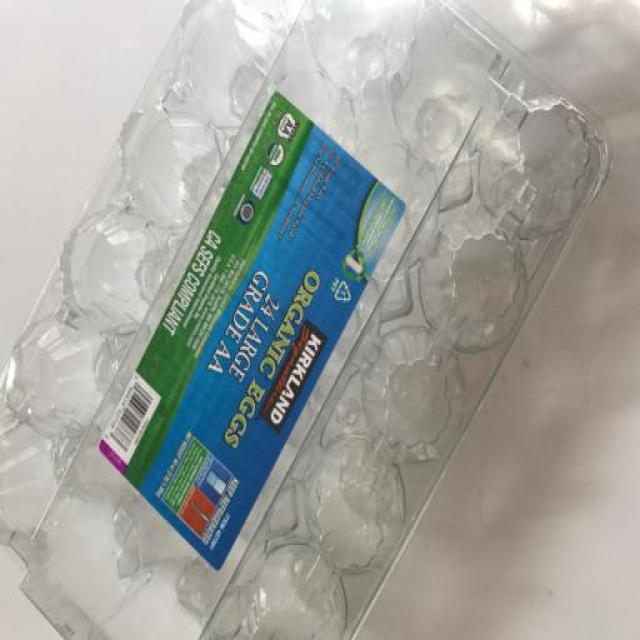plastic: (3, 1, 621, 640)
